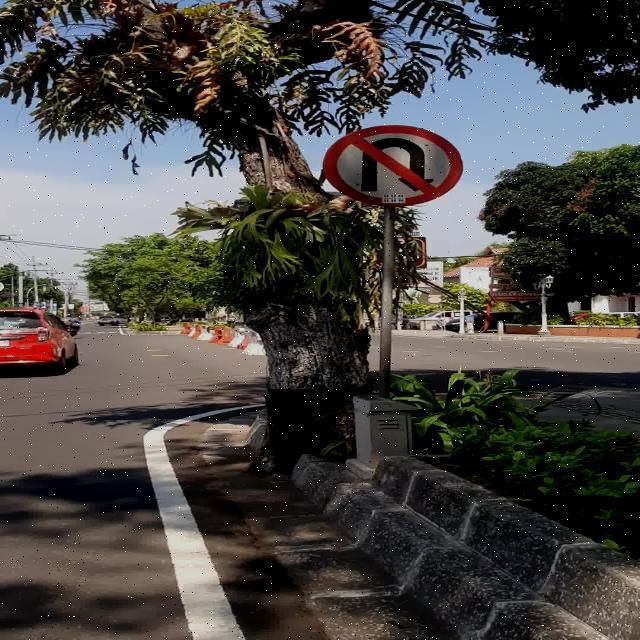Dilarang Putar Balik: (322, 125, 464, 206)
